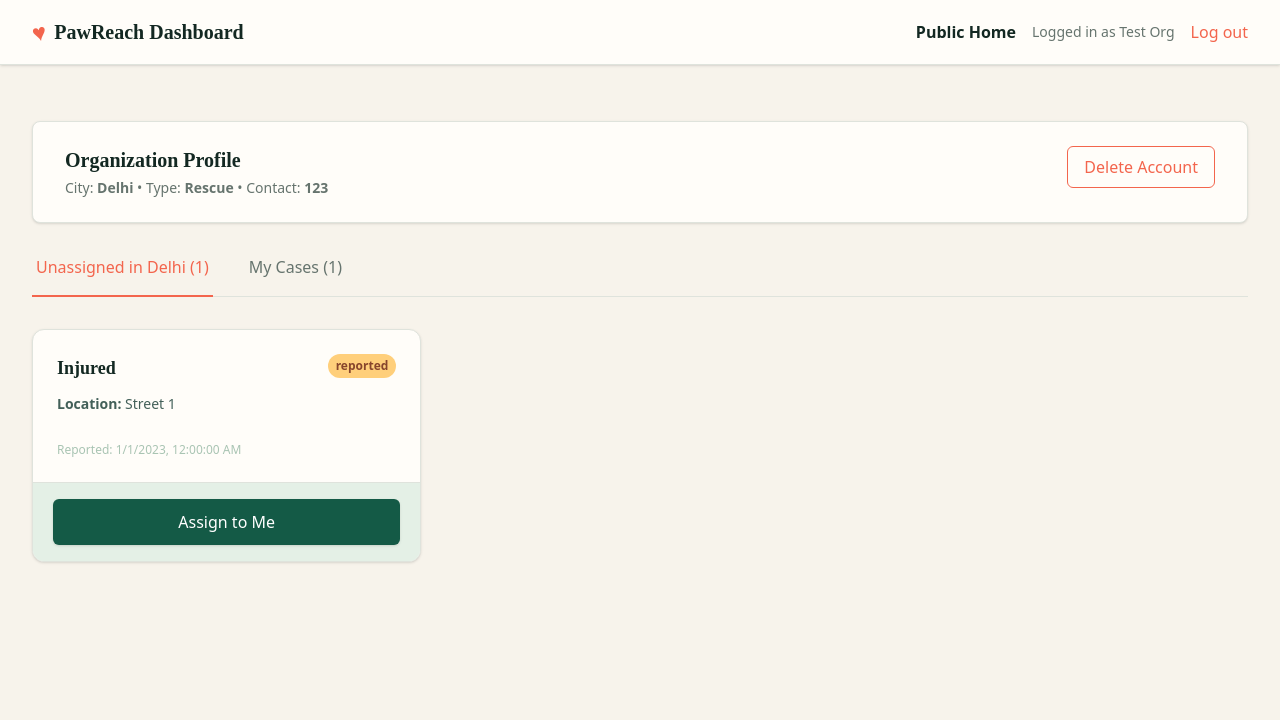
DashboardClient › switches tabs and displays assigned incidents
Click the button "My Cases (1)". click: coordinates (295, 276)
box: [245,255,346,297]
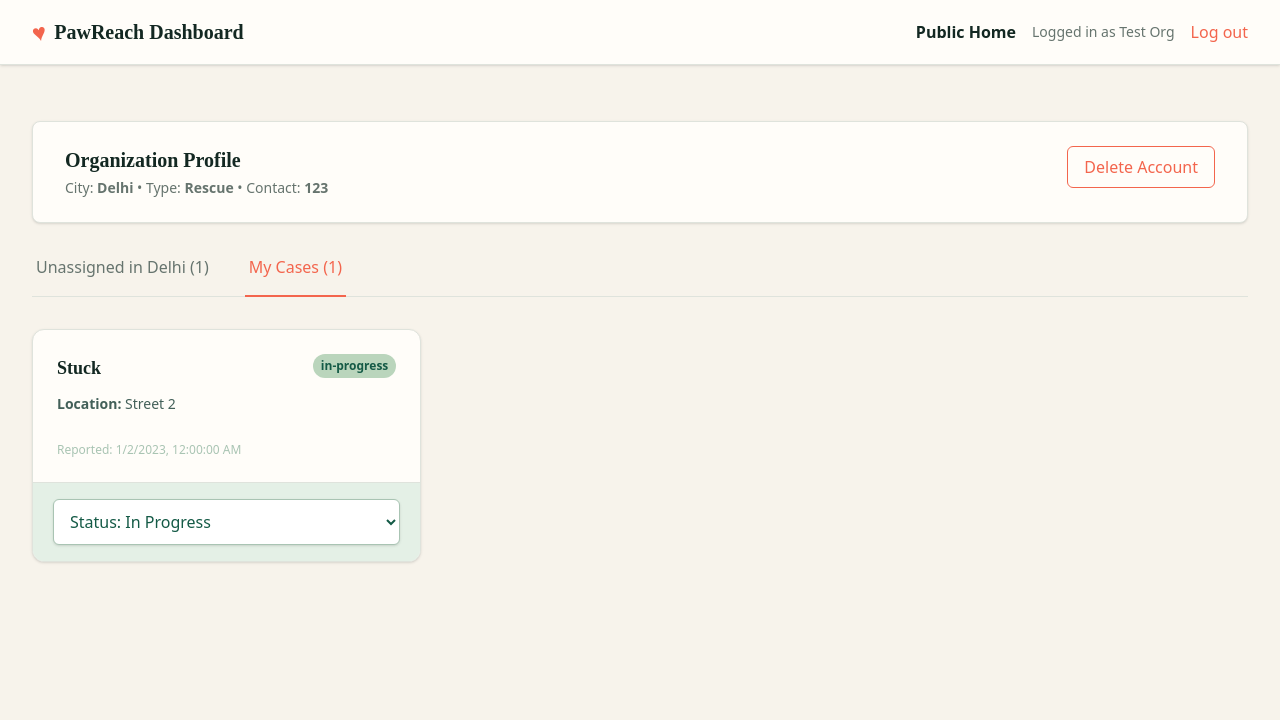
Check: the heading "Stuck" is shown, box [57,354,101,382]
